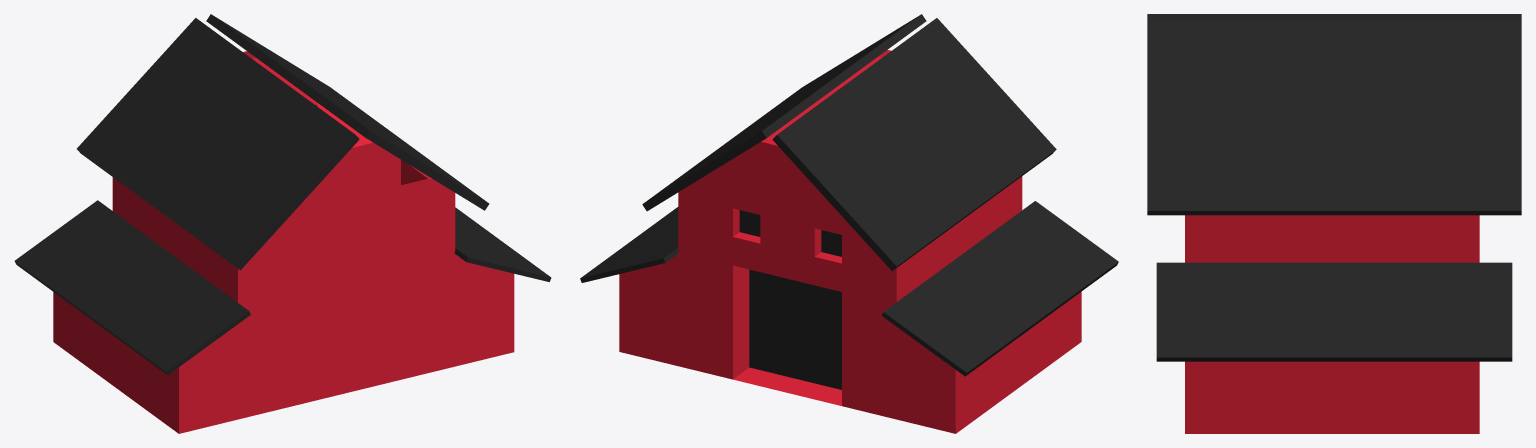
The model's file is Barn.fbx.
The picture shows the model from 3 angles, left to right: view 1: azimuth 30°, elevation 25°; view 2: azimuth 150°, elevation 25°; view 3: azimuth 270°, elevation 25°; orthographic projection. The views are drawn at different scales.
Parts seen in each view (by area): view 1: Cube; view 2: Cube; view 3: Cube.
Boxes of the visible parts, bbox=[...] form: Cube: bbox=[14, 14, 551, 433]; Cube: bbox=[580, 14, 1118, 433]; Cube: bbox=[1147, 14, 1521, 433].
Size of the model in its own units: 355 by 254 by 239.
